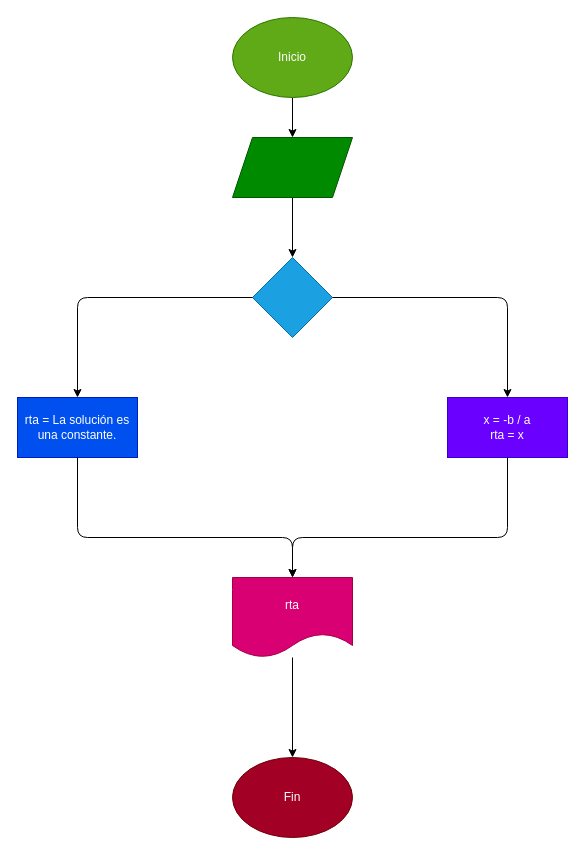
This 585x855 diagram has some shape labels left out. The centre of each missing label's shape, as x and y in pixels:
a != 0: (292,297)
a b: (292,167)
